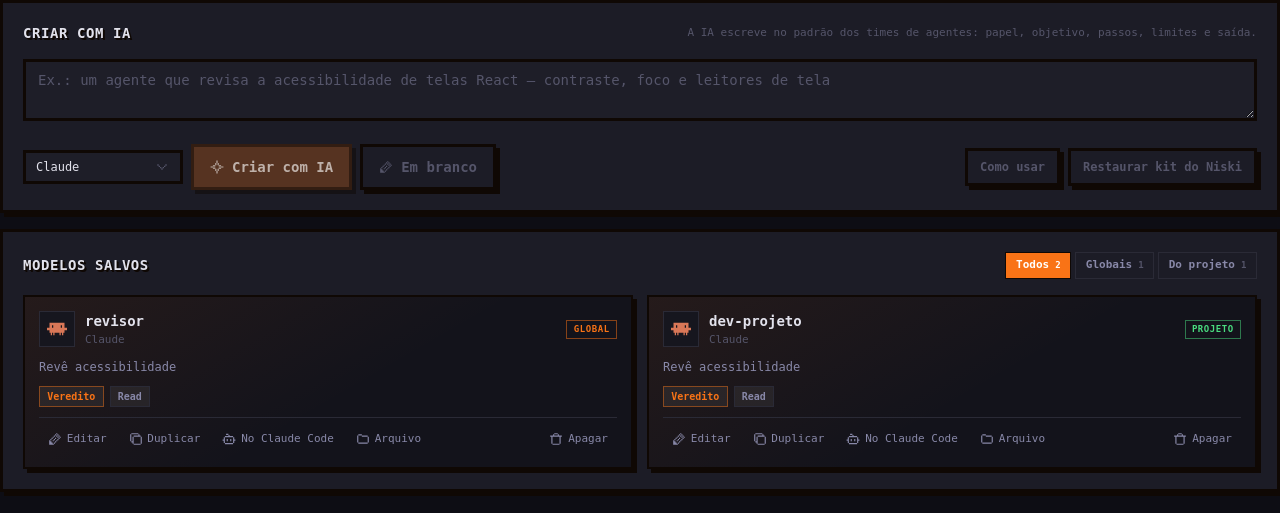
Scenario: só apaga depois do segundo clique de confirmação
Click the button "Apagar" below "Global" at (579, 439), box left=540, top=426, right=617, bottom=452
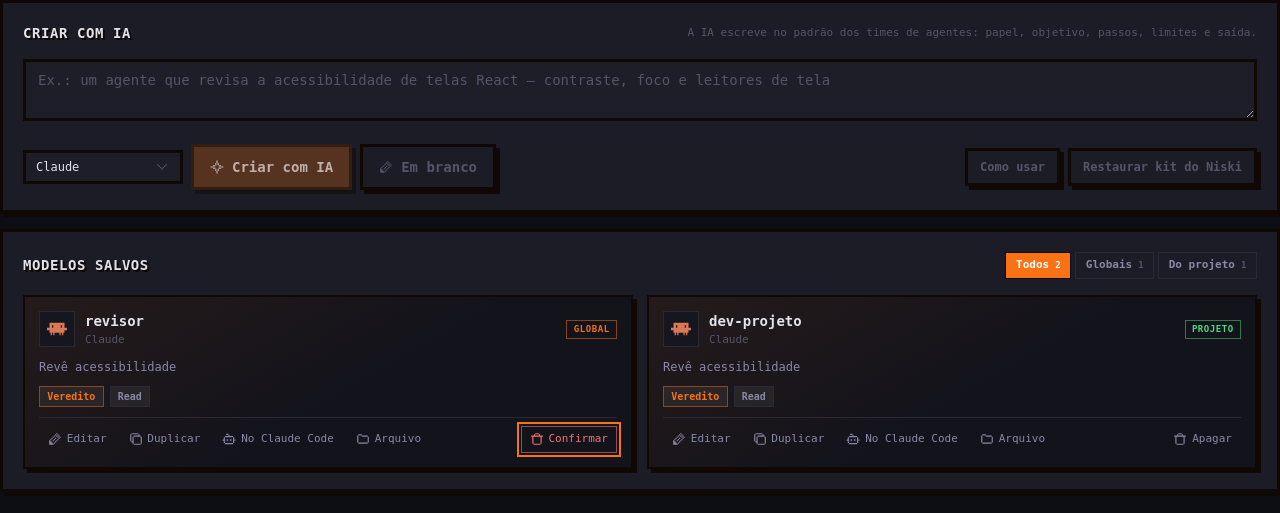
Click the button "Confirmar" at (569, 439), box left=521, top=426, right=617, bottom=452
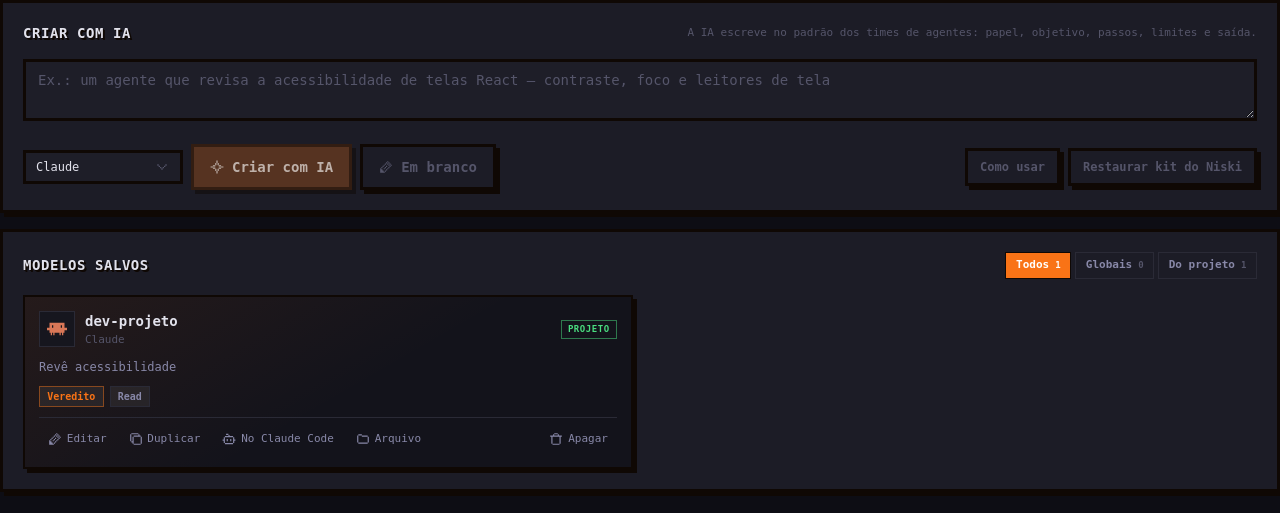
expect the heading "revisor" is gone: met
